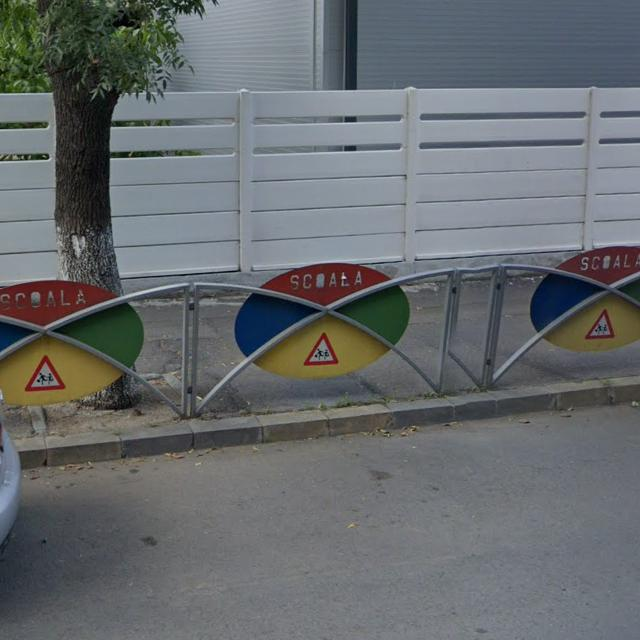warn_children: (24, 354, 66, 391), (303, 332, 339, 366), (584, 309, 614, 339)
